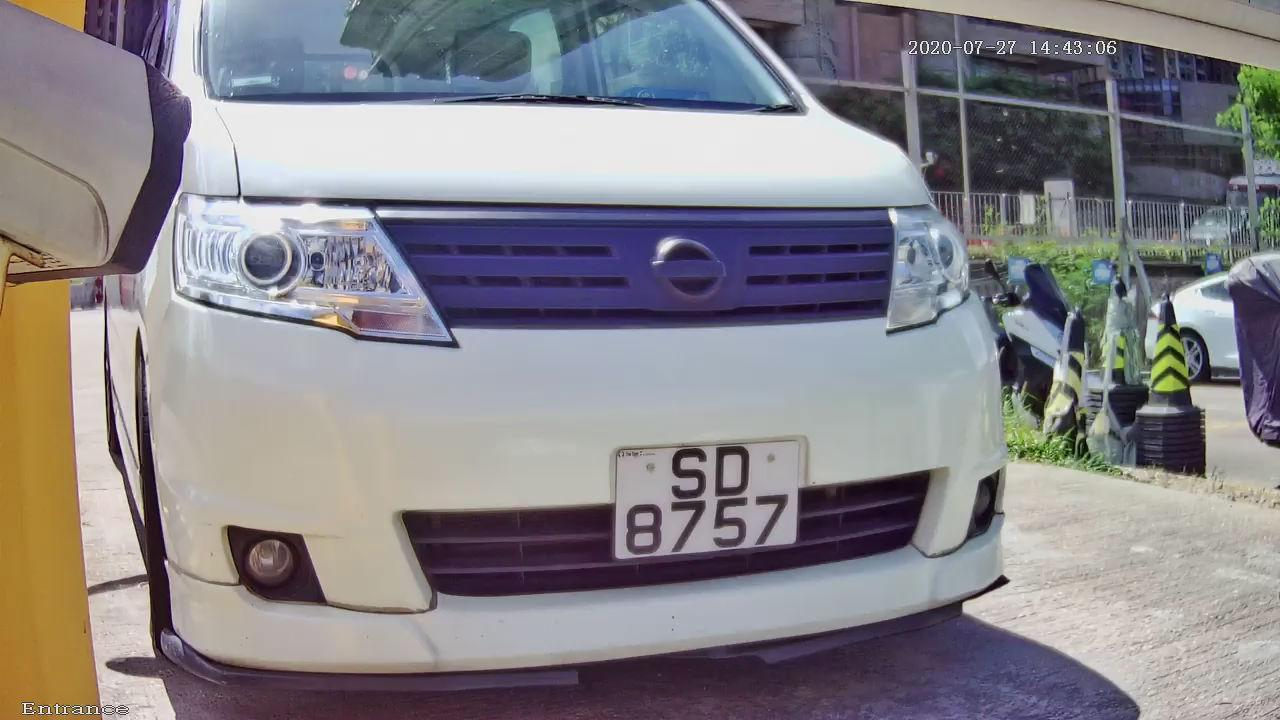privatecar: (115, 26, 1041, 679)
